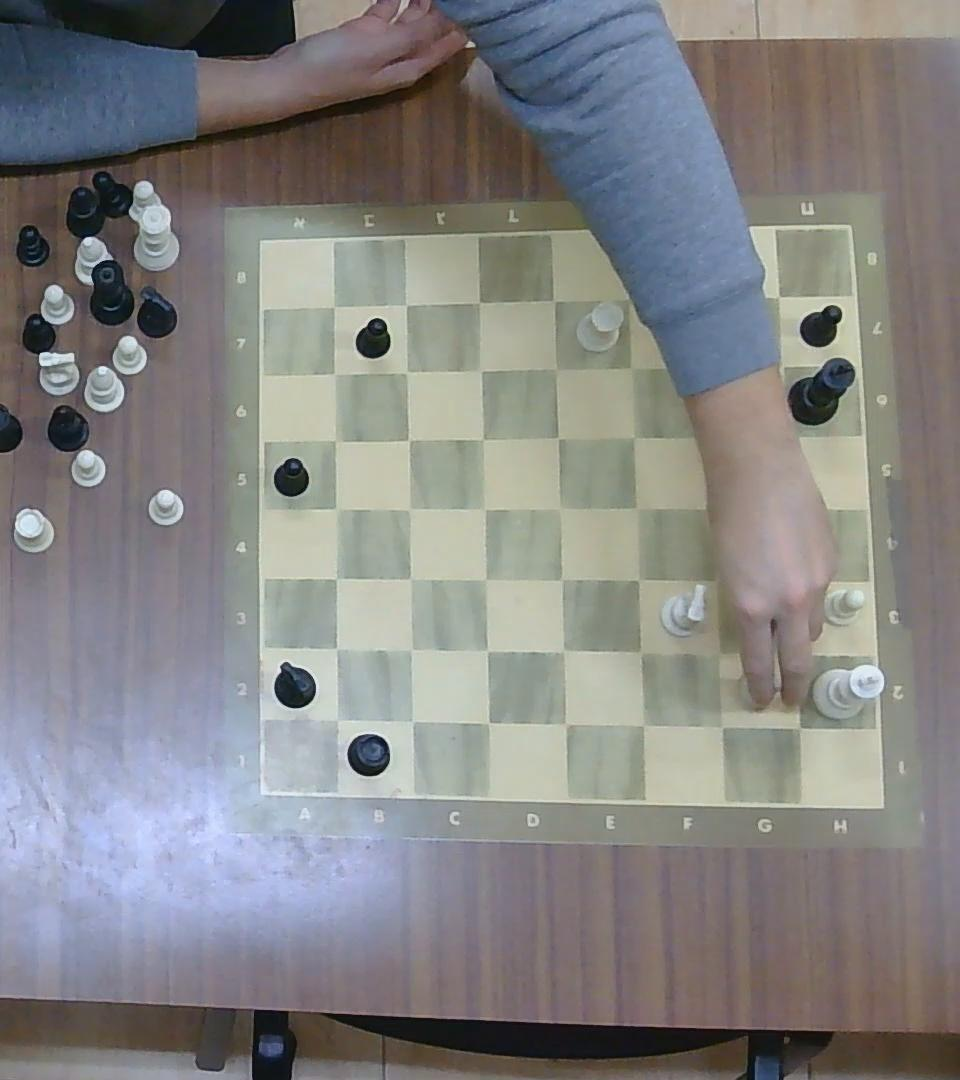xcorner: (701, 636, 734, 669), (626, 707, 658, 740), (625, 634, 656, 668), (705, 708, 736, 742), (782, 637, 813, 671), (702, 564, 734, 596), (548, 707, 579, 740), (783, 710, 814, 743), (547, 635, 578, 667), (320, 703, 352, 734), (780, 567, 811, 599), (622, 563, 653, 594), (472, 706, 502, 738), (615, 282, 645, 314), (777, 495, 807, 527), (471, 634, 501, 665), (470, 563, 500, 594), (547, 563, 577, 594), (396, 705, 427, 735), (619, 350, 648, 381), (541, 285, 570, 315), (693, 350, 721, 381), (470, 493, 499, 522), (395, 635, 424, 664), (545, 493, 574, 522), (543, 353, 572, 382), (622, 493, 651, 522), (321, 562, 350, 591), (694, 493, 723, 522), (766, 351, 795, 380), (688, 280, 716, 310), (395, 493, 423, 522), (466, 355, 495, 383), (465, 286, 494, 314), (765, 282, 793, 311), (776, 422, 804, 451), (689, 424, 717, 453), (321, 426, 349, 454), (320, 291, 348, 319), (546, 422, 573, 451), (621, 422, 648, 451), (396, 565, 424, 592), (468, 424, 495, 452), (323, 494, 351, 521), (322, 634, 350, 661), (395, 424, 421, 453), (393, 358, 420, 383), (392, 291, 419, 316), (322, 360, 348, 385)
